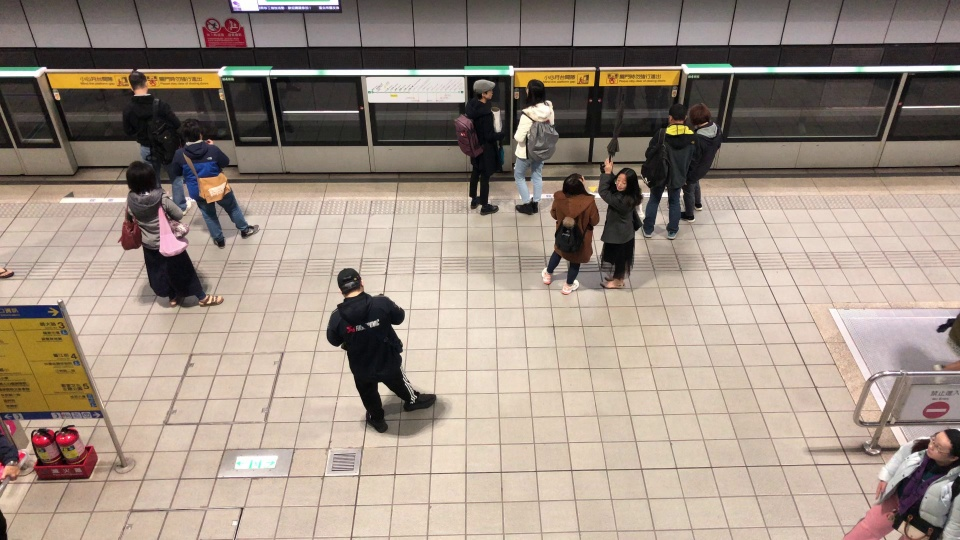person_head: (920, 426, 960, 466), (125, 160, 158, 193), (334, 266, 367, 297), (561, 173, 587, 200), (688, 100, 712, 128), (471, 78, 497, 103), (613, 167, 636, 191), (182, 116, 204, 141), (128, 70, 149, 95), (523, 78, 545, 101), (667, 103, 688, 124)
person_vbox: (326, 265, 437, 433), (114, 159, 224, 311), (840, 416, 960, 538), (171, 118, 260, 249), (121, 68, 192, 217), (596, 92, 644, 290), (639, 102, 701, 240), (452, 77, 506, 216), (541, 172, 599, 294), (511, 77, 559, 215), (679, 101, 722, 223)
